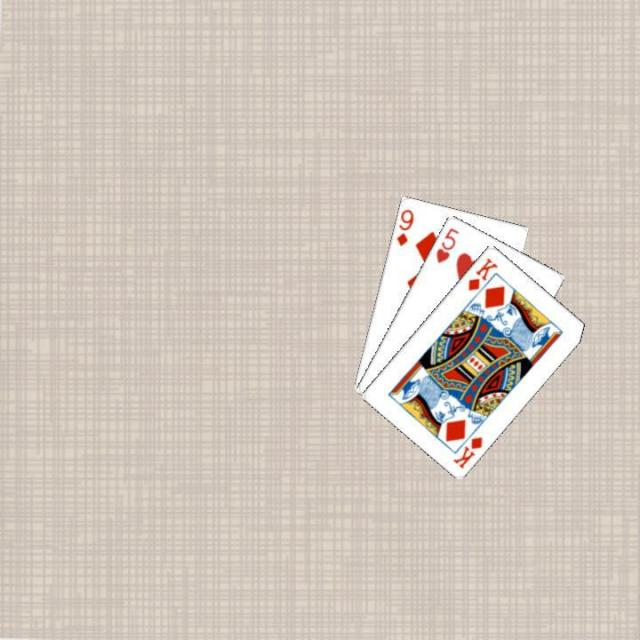5H: (432, 223, 460, 265)
9D: (392, 205, 415, 247)
KD: (464, 254, 500, 292), (449, 432, 484, 470)
